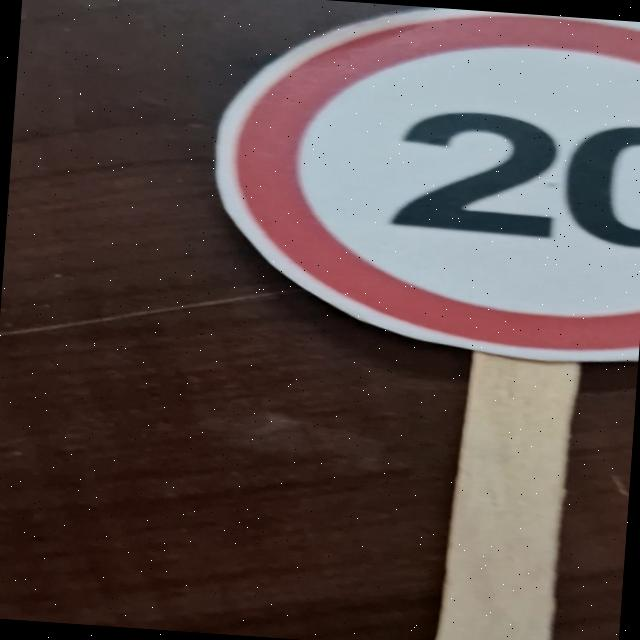Speed20: (199, 0, 640, 371)
